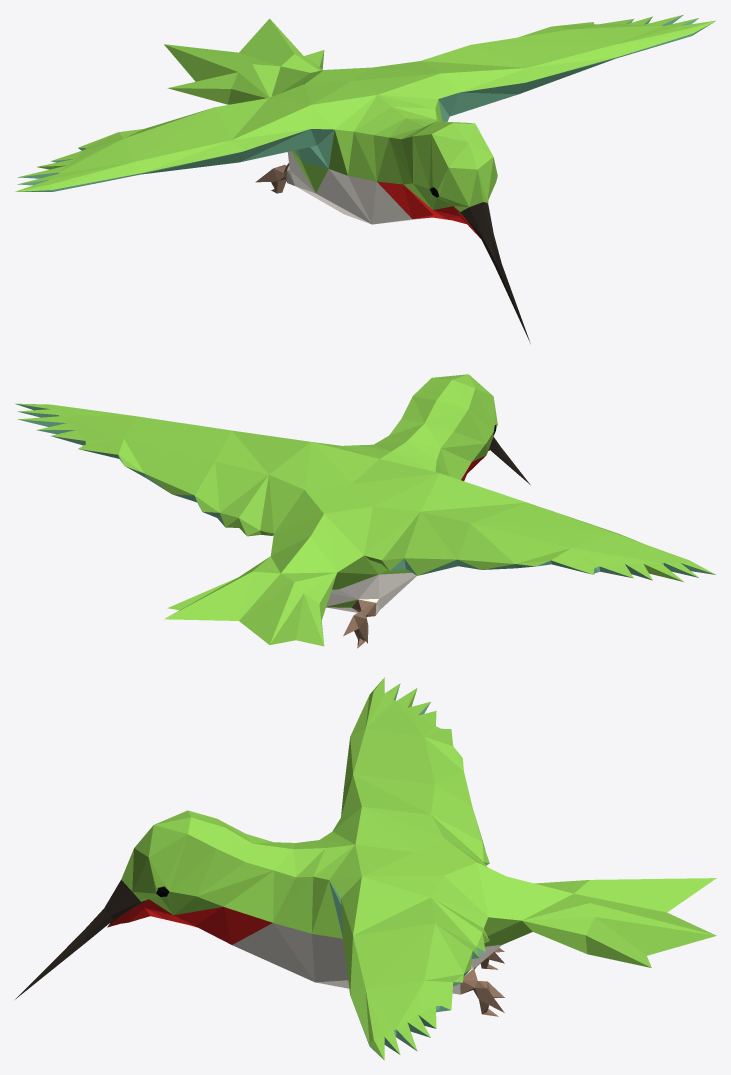
Rendered from hummingbird_colorMap.obj.
The picture shows the model from 3 angles, top to bottom: view 1: azimuth 30°, elevation 25°; view 2: azimuth 150°, elevation 25°; view 3: azimuth 270°, elevation 25°; orthographic projection. The views are drawn at different scales.
Size of the model in its own units: 28.06 by 6.26 by 21.76.
